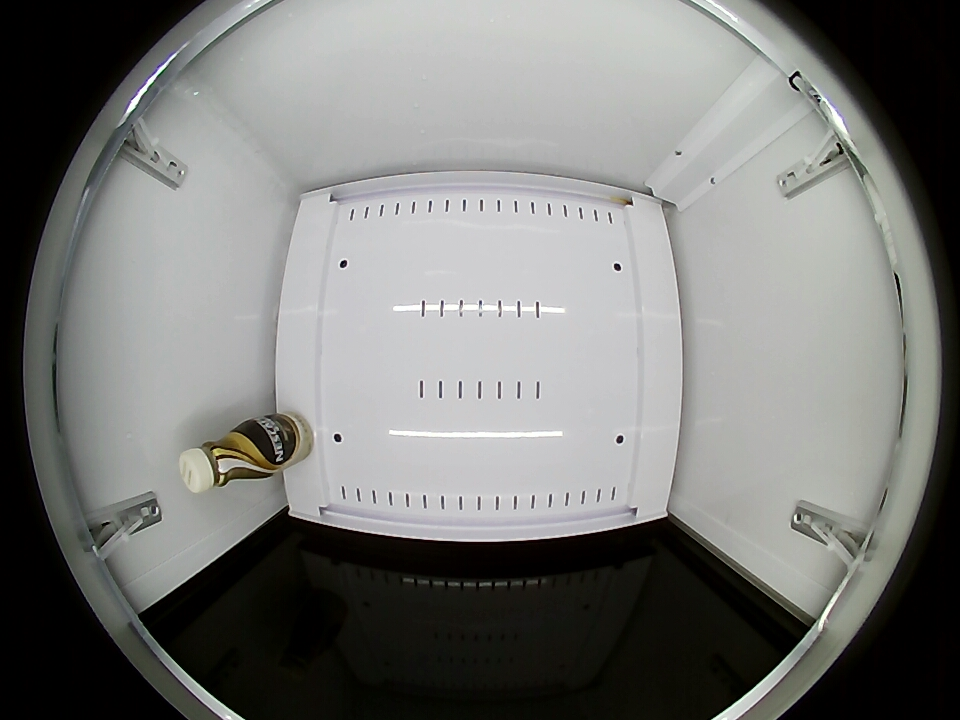kafei: (178, 422, 273, 492)
